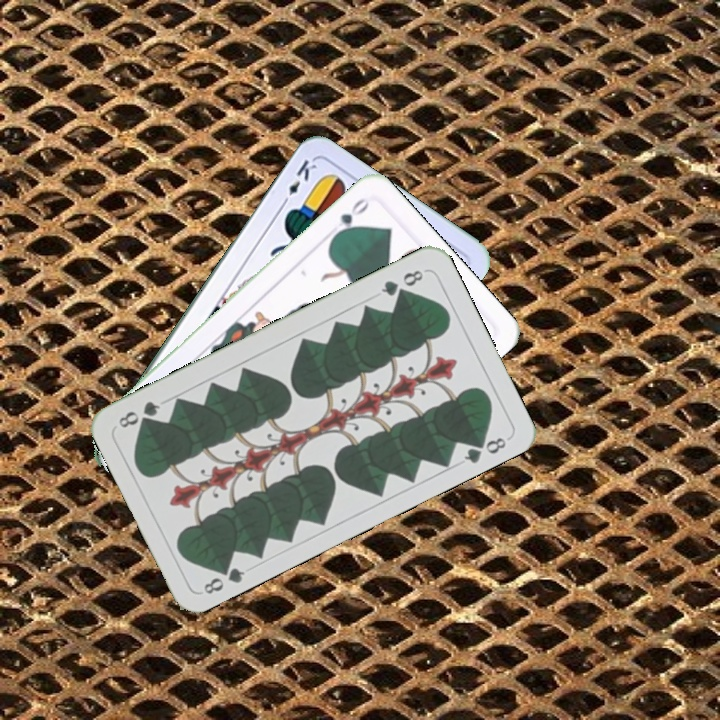EK: (277, 155, 319, 209)
G8: (199, 559, 248, 597), (377, 266, 429, 299)
GO: (328, 193, 372, 242)
